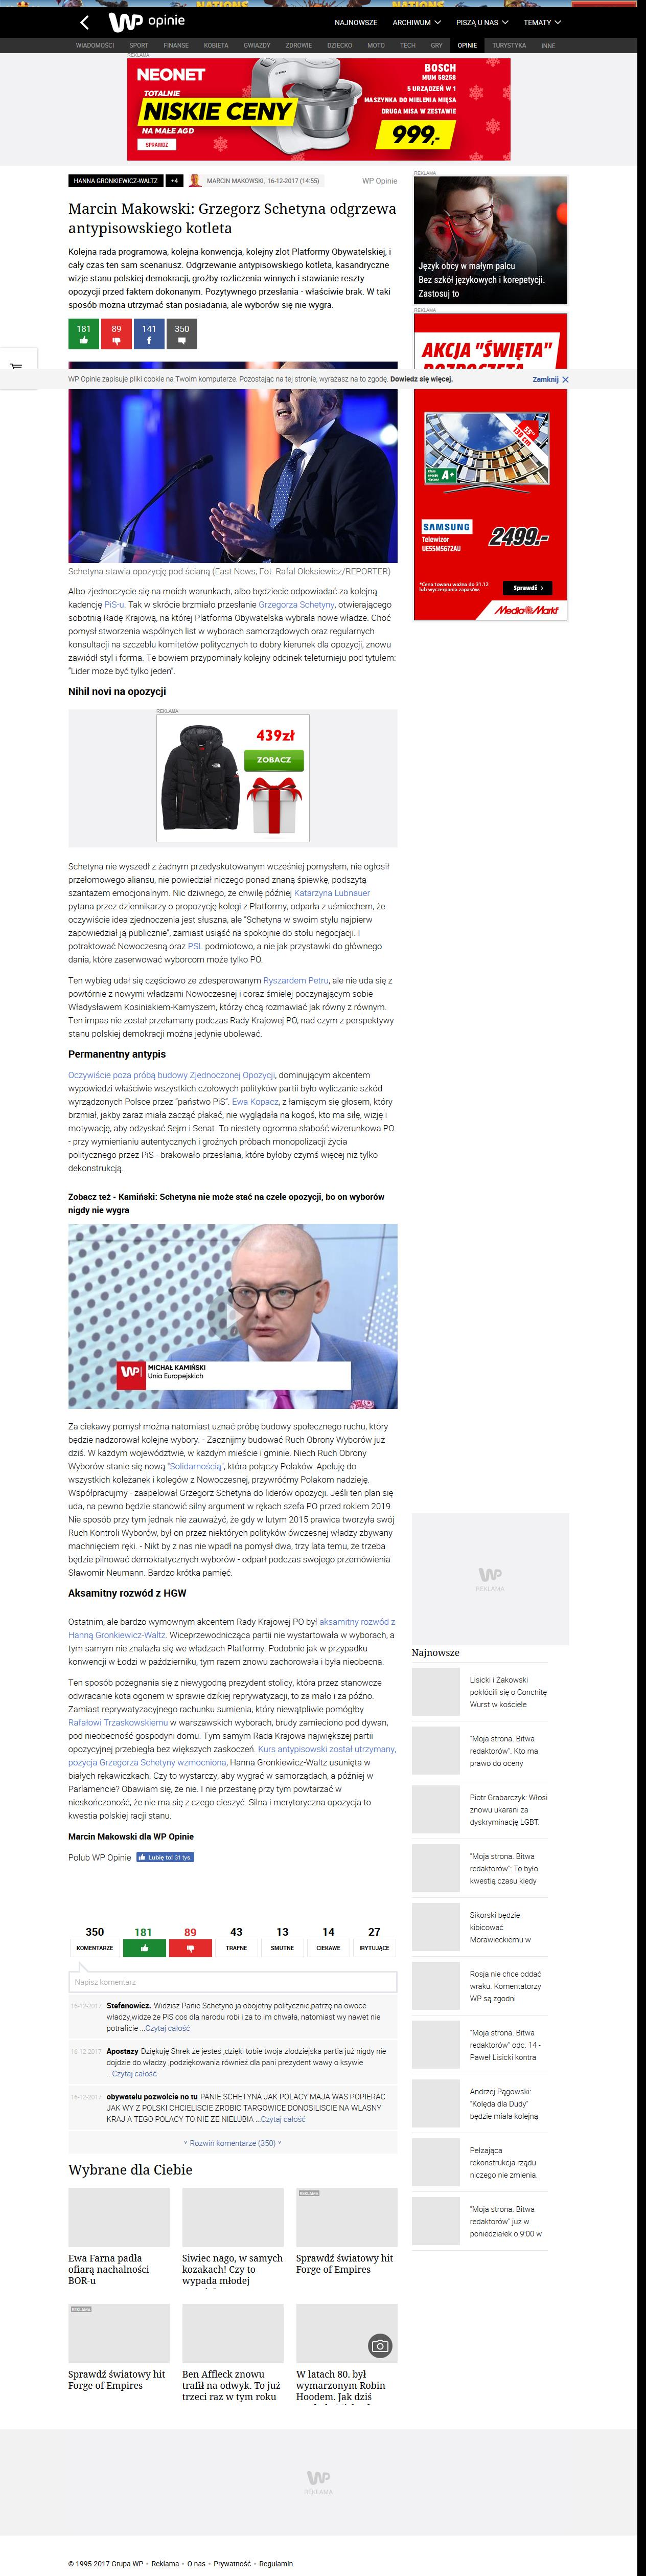title: (67, 202, 398, 238)
